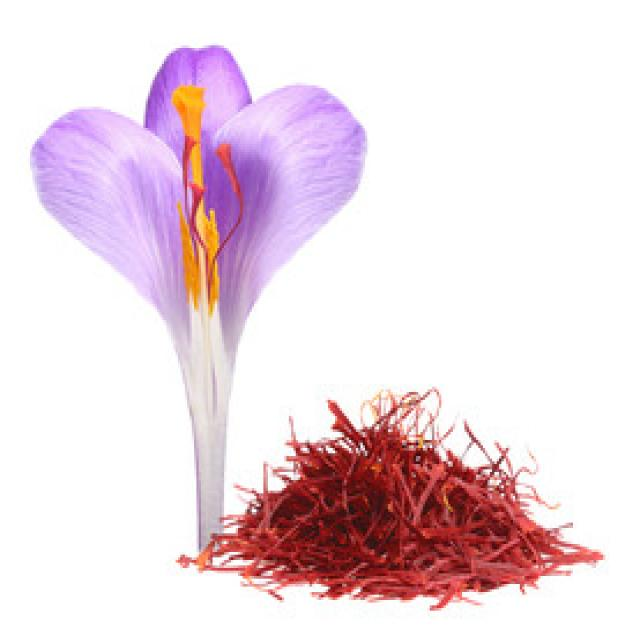saffron open: (31, 46, 366, 548)
